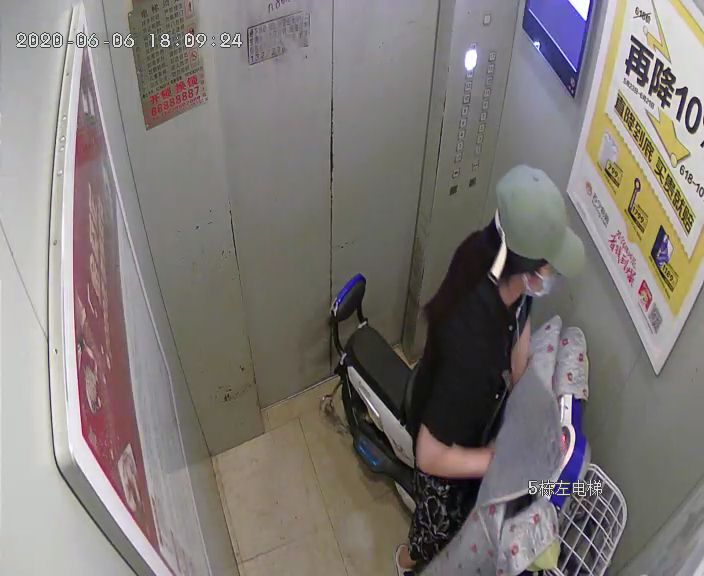Electric-bicycle: (322, 270, 632, 574)
